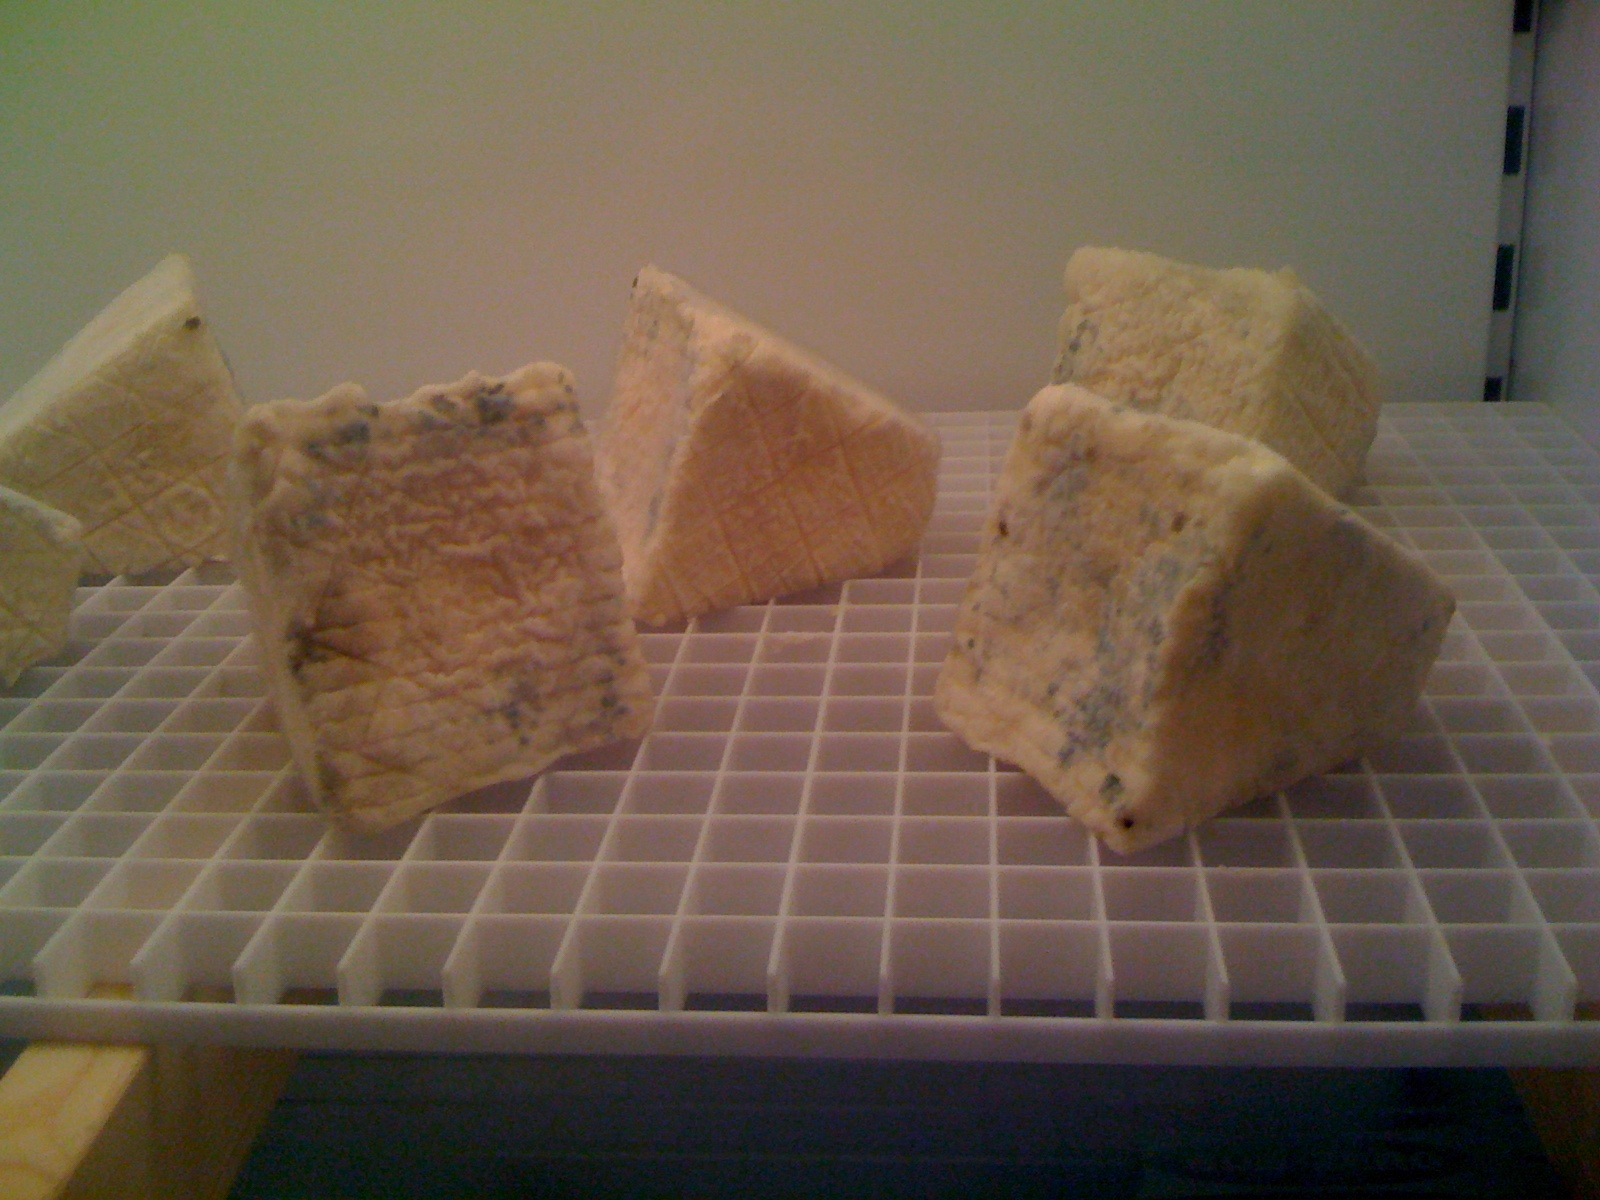Mucor: (1017, 434, 1207, 773), (278, 387, 519, 523), (1063, 318, 1212, 417), (1097, 782, 1134, 829)
